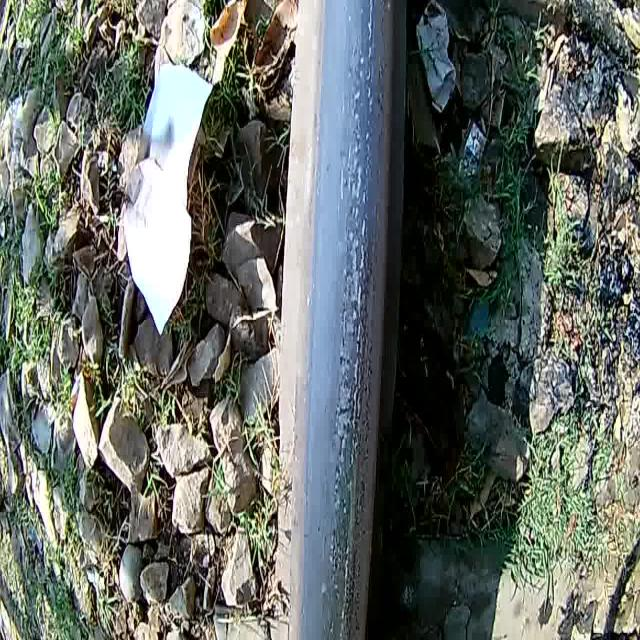Flakings: (323, 0, 379, 640)
